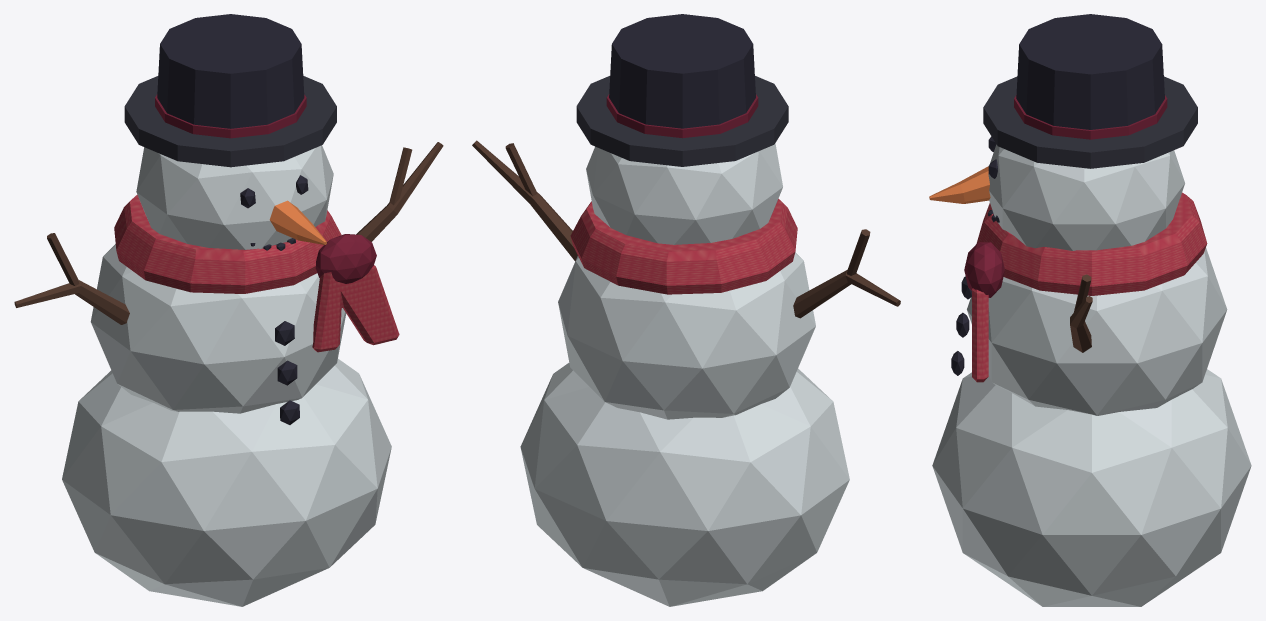
Rendered from snowman_small.glb.
The picture shows the model from 3 angles, left to right: view 1: azimuth 30°, elevation 25°; view 2: azimuth 150°, elevation 25°; view 3: azimuth 270°, elevation 25°; orthographic projection.
Parts seen in each view (by area): view 1: snowman_small; view 2: snowman_small; view 3: snowman_small.
Boxes of the visible parts, box(x1,y1,x2,y2) form: snowman_small: box(14, 14, 443, 606); snowman_small: box(472, 14, 900, 606); snowman_small: box(929, 14, 1251, 606).
Size of the model in its own units: 0.3907 by 0.4775 by 0.2523.
Materials: 7 (1 with a texture image).
